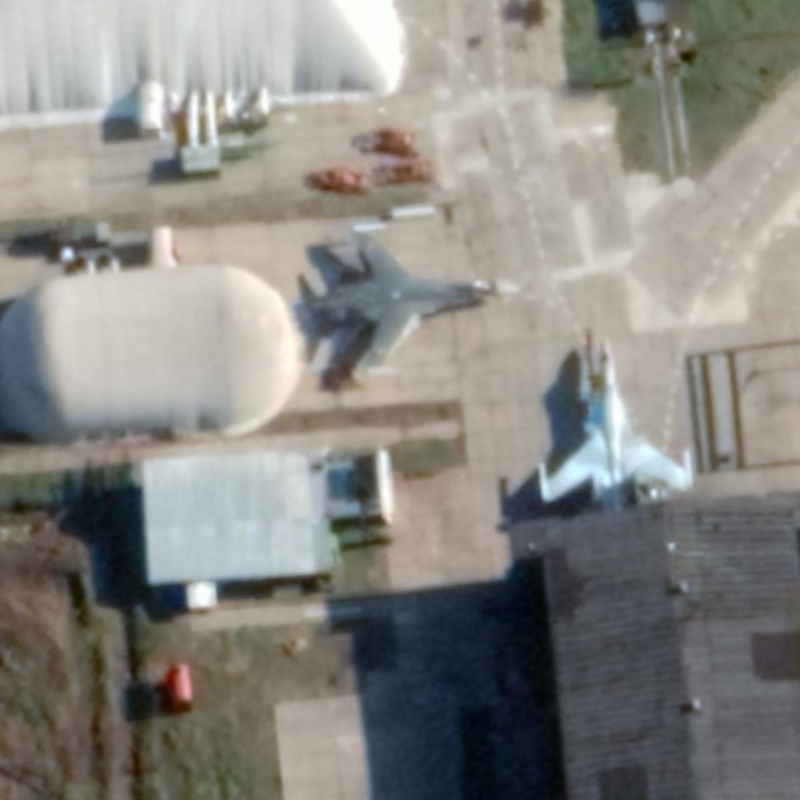A1: (293, 218, 525, 381), (532, 334, 697, 509)
